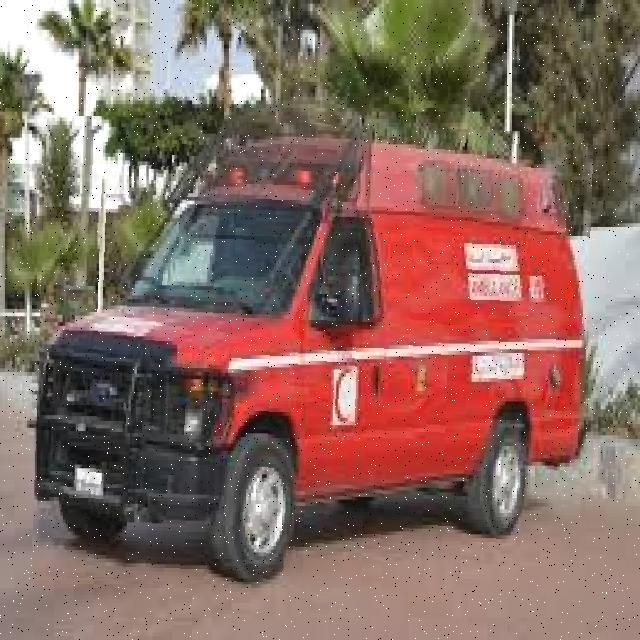ambulance: (35, 120, 590, 591)
